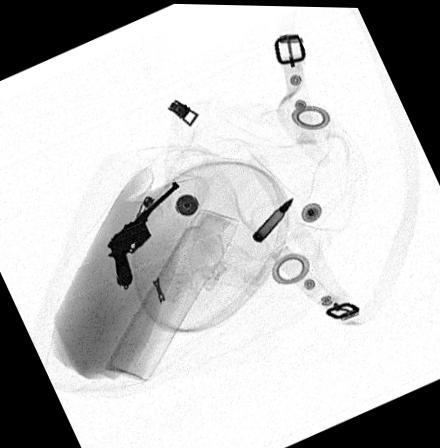Bullet: (250, 194, 292, 241)
Gun: (103, 181, 179, 284)
